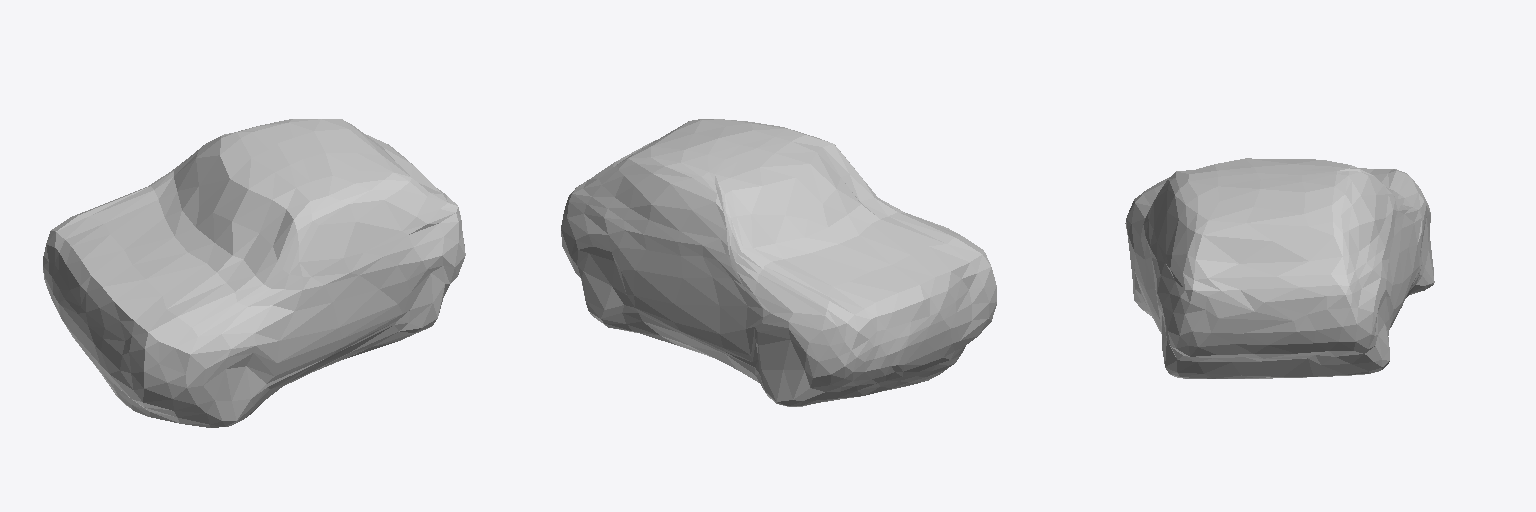
The model's file is video0_6.obj.
The picture shows the model from 3 angles: view 1: azimuth 30°, elevation 25°; view 2: azimuth 150°, elevation 25°; view 3: azimuth 270°, elevation 25°; orthographic projection.
Size of the model in its own units: 1 by 0.5452 by 0.7732.